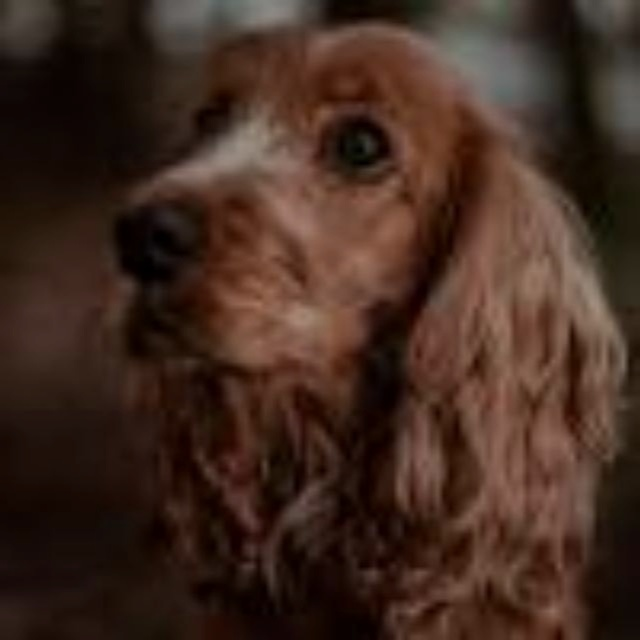dog: (59, 9, 587, 462)
